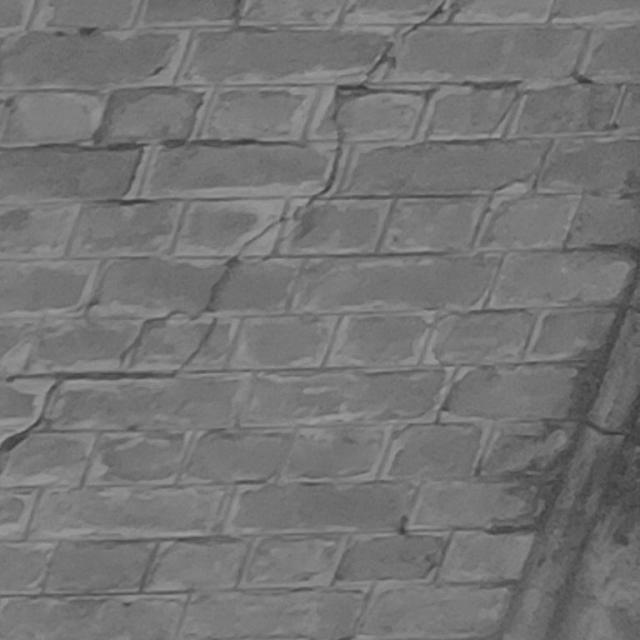crack: (1, 1, 444, 454)
